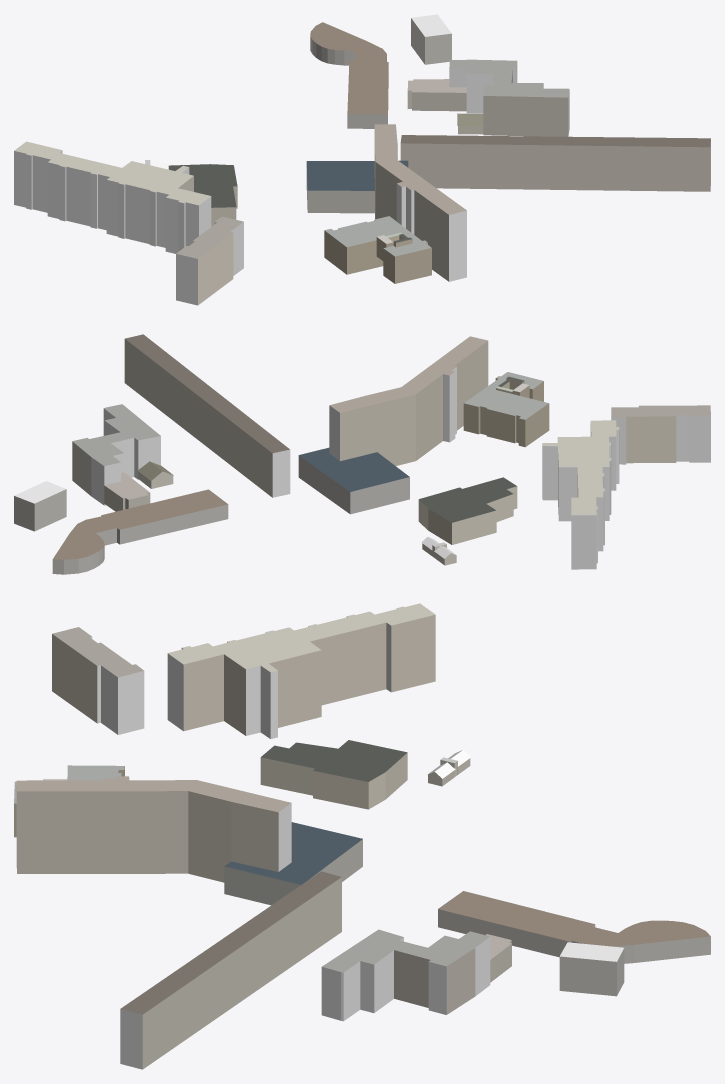
The picture shows the model from 3 angles, top to bottom: view 1: azimuth 30°, elevation 25°; view 2: azimuth 150°, elevation 25°; view 3: azimuth 270°, elevation 25°; orthographic projection. The views are drawn at different scales.
Visible parts, largest first — view 1: tuile; view 2: tuile; view 3: tuile.
Part boxes in pixels (bbox=[...]): tuile: bbox=[14, 14, 710, 305]; tuile: bbox=[14, 334, 710, 574]; tuile: bbox=[14, 603, 710, 1069].
Size of the model in its own units: 322 by 48.74 by 270.
